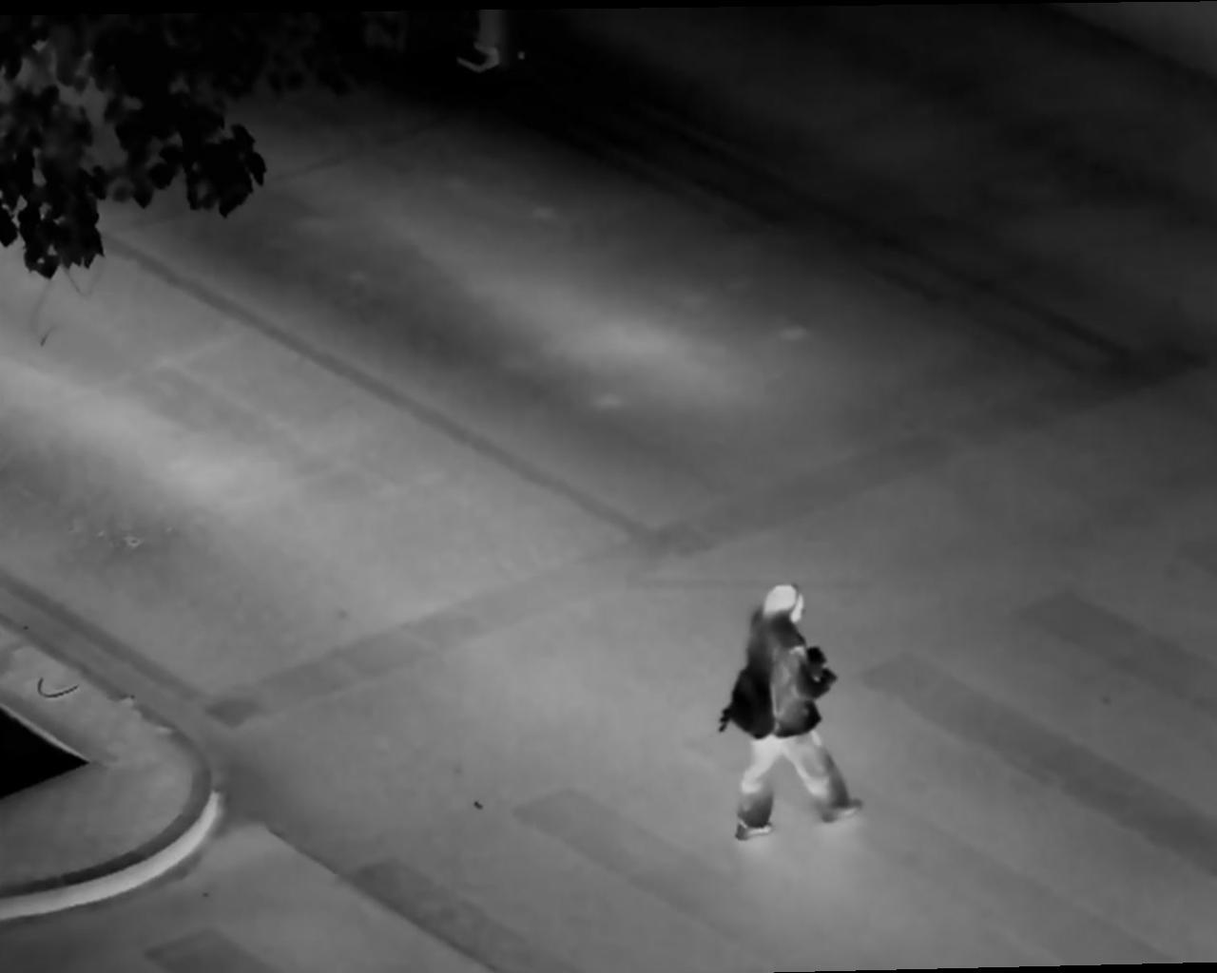person: (718, 577, 871, 862)
